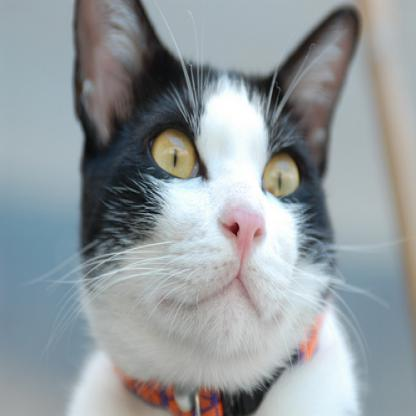cat: (65, 0, 361, 415)
